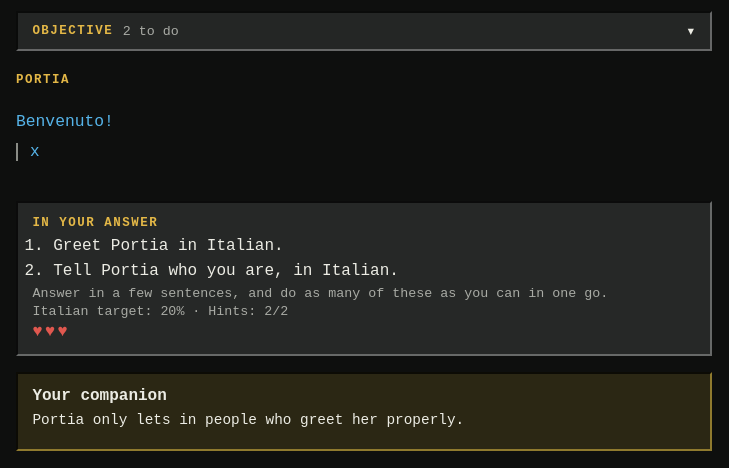
Scenario: scrolled past, the box folds into a bar: a tap unfolds the objectives, another folds them, and it goes when the box is back
Later steps or results of the test are not shown.
Expected: the number of lists with class "objective-list" is 1, [53, 237, 399, 280]
Step 1. Click the button "Objective 2 to do ▾" → (73, 31), box [16, 11, 712, 51]
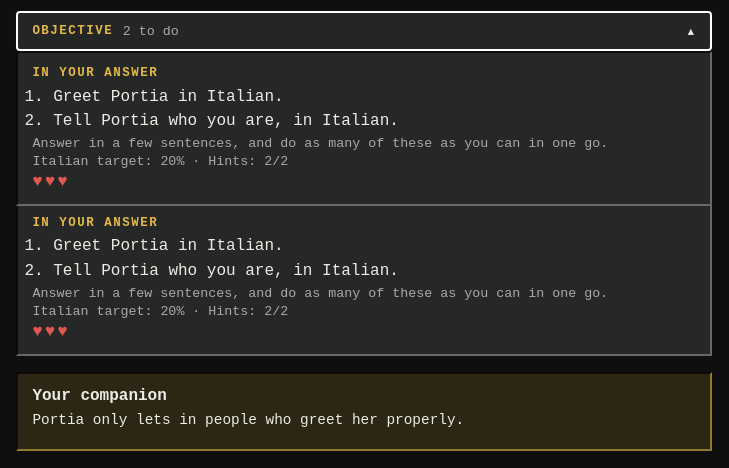
Result: the button "Objective 2 to do ▴" is expanded
Result: the element with class "objective-unfolded" shows "Greet Portia in Italian." at [53, 88, 284, 106]
Result: the 1st text with class "hearts" reads "♥♥♥" at [32, 172, 70, 191]
Step 2. Click the button "Objective 2 to do ▴" → (73, 31), box [16, 11, 712, 51]
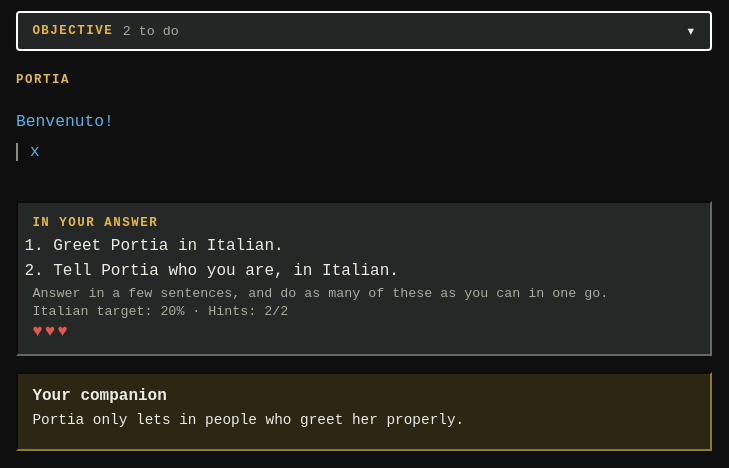
Result: the element with class "objective-unfolded" is gone
